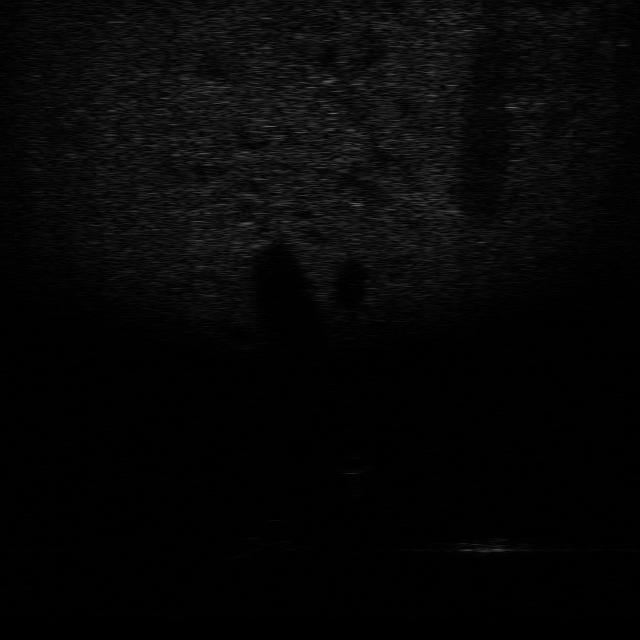ball: (325, 451, 375, 478)
metal bucket: (438, 532, 542, 562)
tyre: (238, 519, 322, 552)
